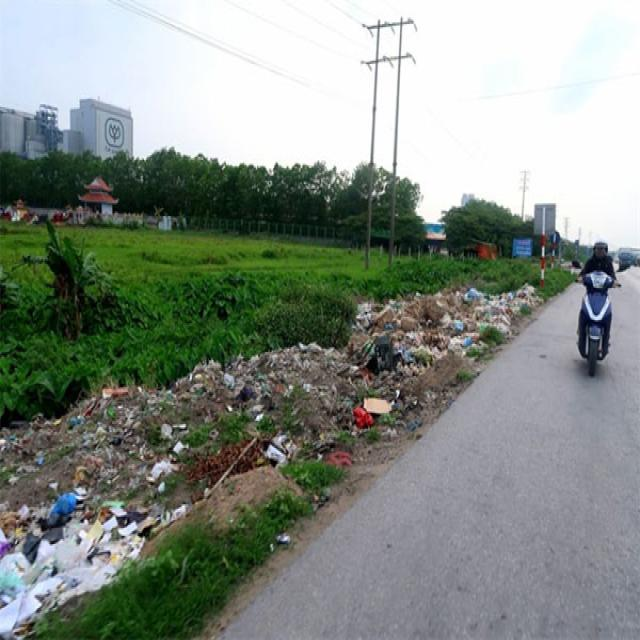garbage: (0, 271, 571, 640)
